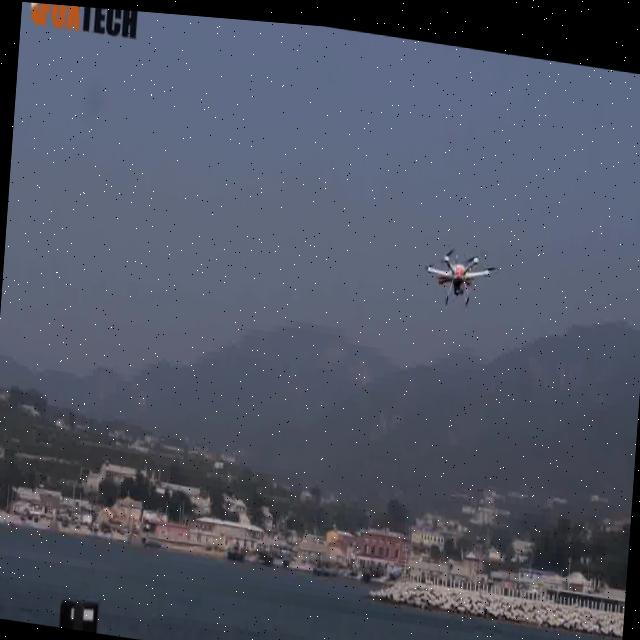drone: (407, 222, 503, 311)
